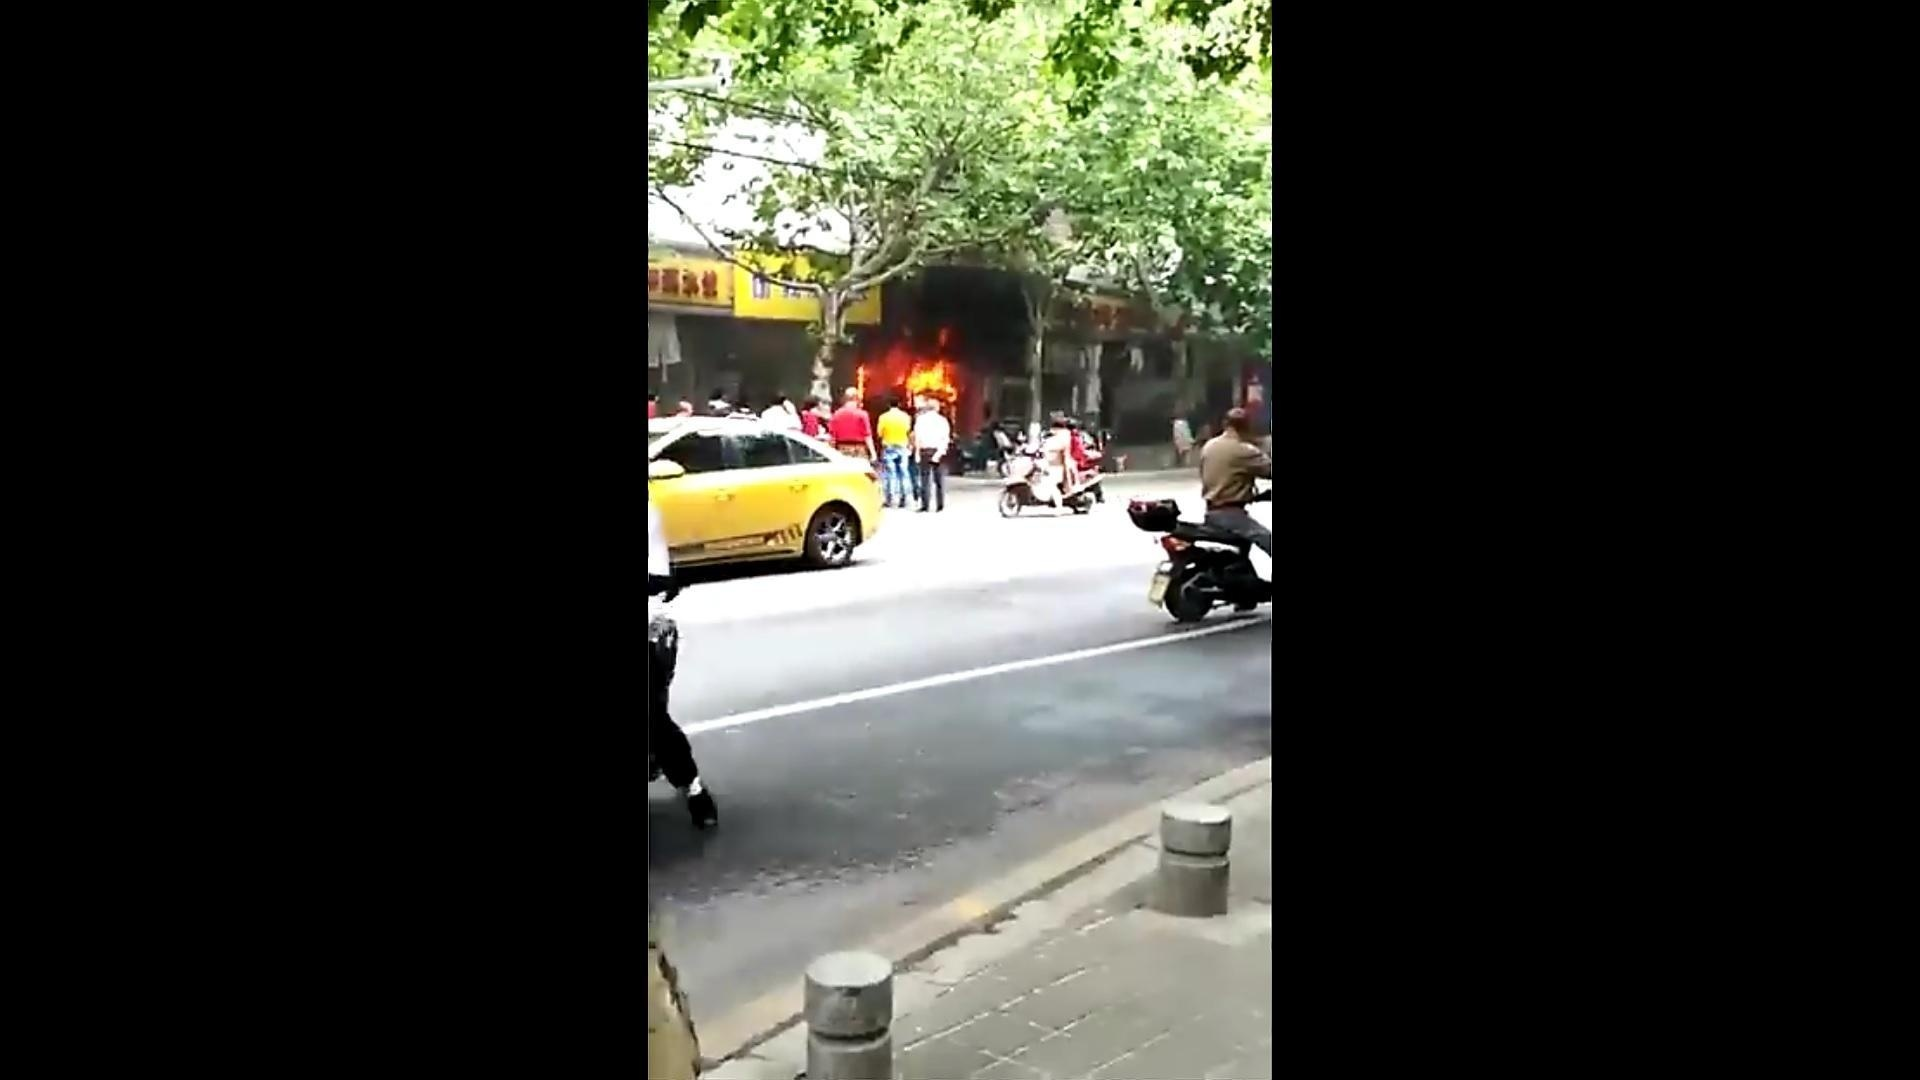fire: (899, 357, 955, 402)
